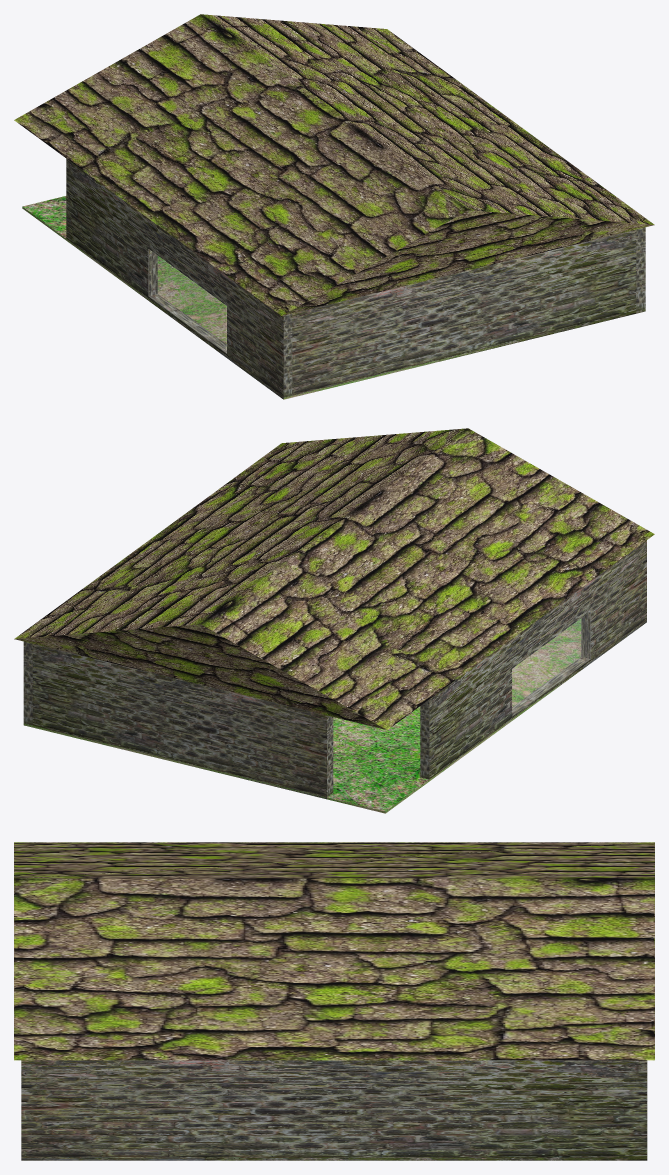
The model's file is PandaRoomIMPROVED.fbx.
3 renders of one model, top to bottom at view 1: azimuth 30°, elevation 25°; view 2: azimuth 150°, elevation 25°; view 3: azimuth 270°, elevation 25°, orthographic. The views are drawn at different scales.
Parts seen in each view (by area): view 1: Cylinder, Wall.002, Wall.001, Wall.005, Cube, Wall; view 2: Cylinder, Wall.003, Wall.001, Wall.005, Cube, Wall; view 3: Cylinder, Wall.
Part boxes in pixels (left/top/right/bottom): Cylinder: left=14, top=14, right=654, bottom=315; Wall.002: left=292, top=229, right=636, bottom=395; Wall.001: left=66, top=159, right=292, bottom=399; Wall.005: left=22, top=196, right=545, bottom=399; Cube: left=148, top=249, right=226, bottom=353; Wall: left=636, top=227, right=645, bottom=313; Cylinder: left=14, top=428, right=654, bottom=729; Wall.003: left=32, top=644, right=333, bottom=799; Wall.001: left=420, top=540, right=646, bottom=779; Wall.005: left=24, top=619, right=585, bottom=813; Cube: left=512, top=612, right=590, bottom=715; Wall: left=23, top=641, right=32, bottom=725; Cylinder: left=14, top=842, right=654, bottom=1060; Wall: left=21, top=1060, right=647, bottom=1160.
Bounding box in the file's own units: 41.22 × 15.59 × 51.2.
